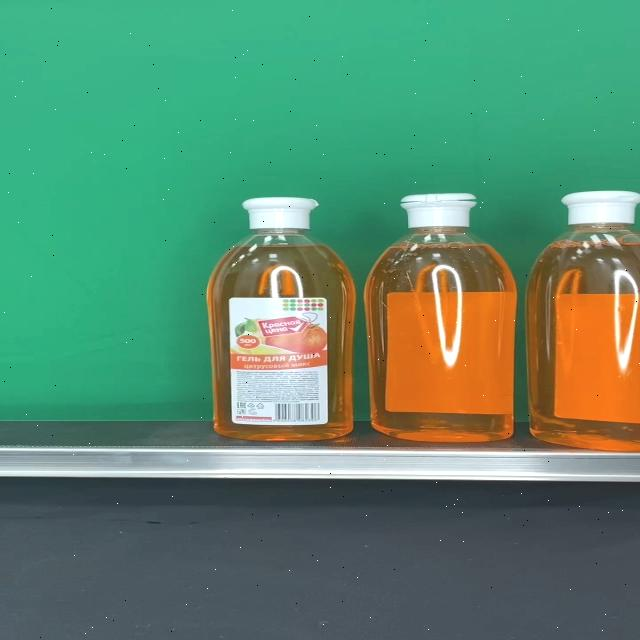Bottle: (365, 193, 518, 442), (206, 197, 358, 441), (527, 190, 640, 452)
Cap: (560, 190, 640, 226), (241, 197, 319, 231), (400, 193, 476, 227)
